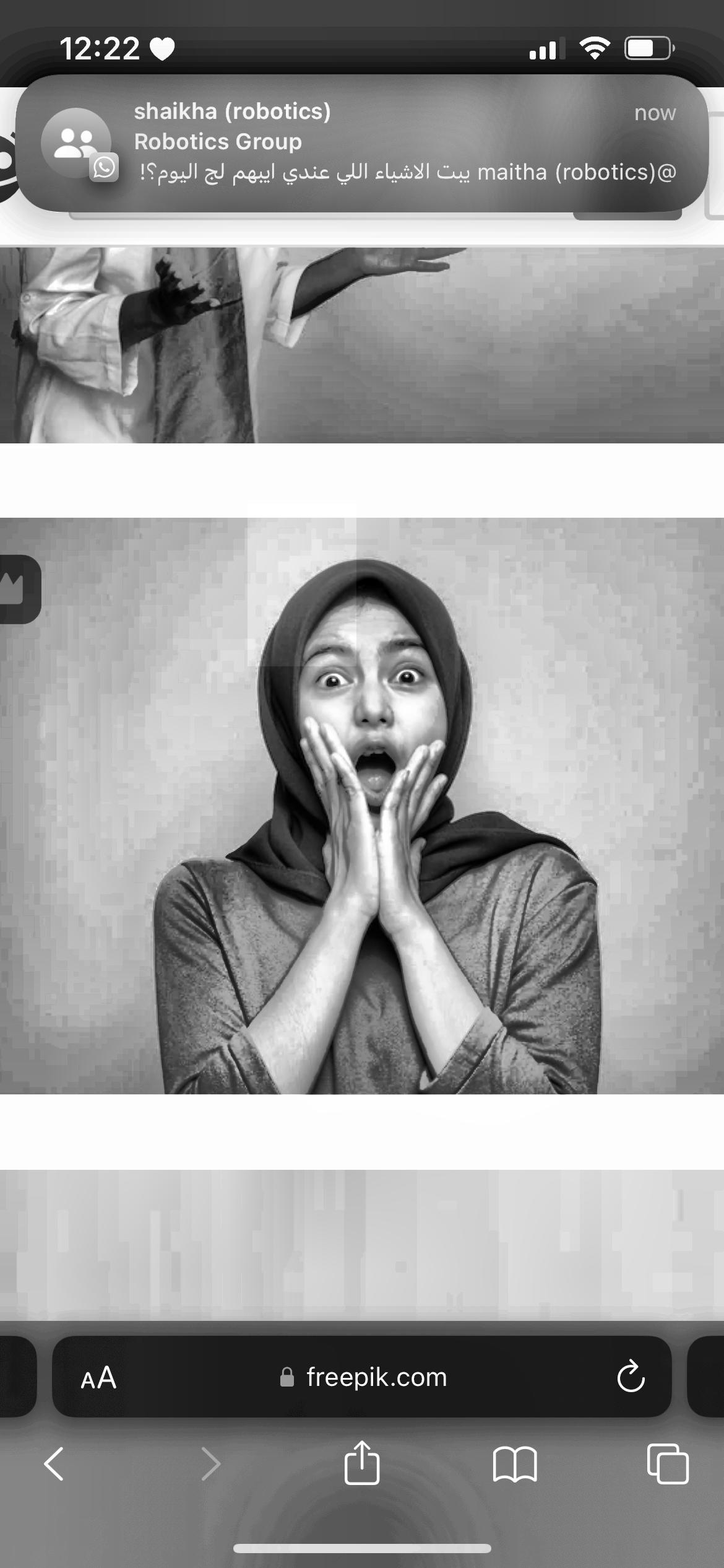surprised: (306, 623, 441, 824)
